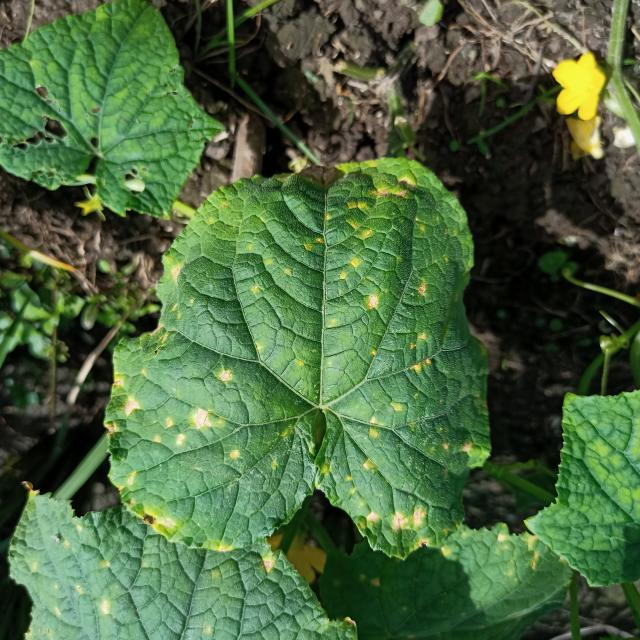disease_cucumber: (106, 166, 480, 544), (44, 518, 113, 618)
